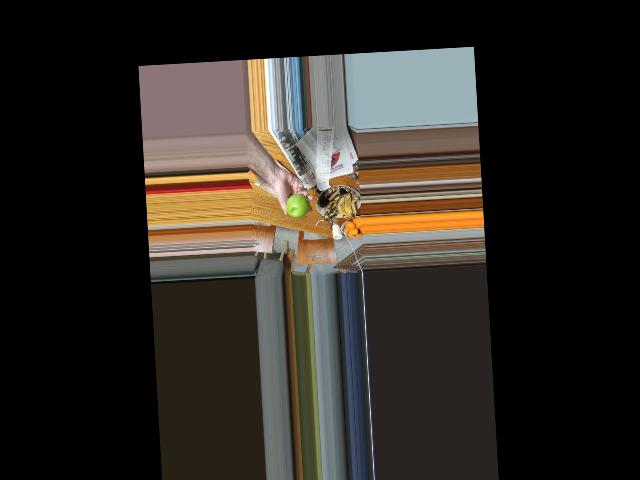apple: (284, 193, 309, 218)
